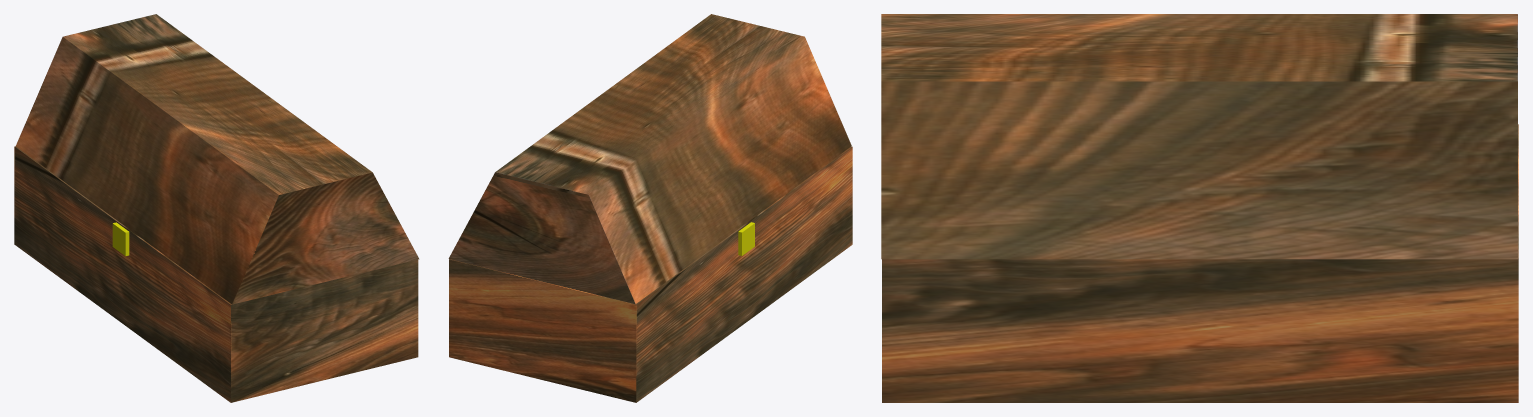
The model's file is chest.glb.
The picture shows the model from 3 angles, left to right: view 1: azimuth 30°, elevation 25°; view 2: azimuth 150°, elevation 25°; view 3: azimuth 270°, elevation 25°; orthographic projection. The views are drawn at different scales.
Parts seen in each view (by area): view 1: Cube, Cube.001; view 2: Cube, Cube.001; view 3: Cube, Cube.001.
Boxes of the visible parts, bbox=[...] form: Cube: bbox=[16, 14, 419, 304]; Cube.001: bbox=[14, 146, 418, 402]; Cube: bbox=[448, 14, 851, 304]; Cube.001: bbox=[449, 146, 852, 402]; Cube: bbox=[881, 14, 1517, 259]; Cube.001: bbox=[882, 124, 1518, 402].
Bounding box in the file's own units: 2.05 × 2 × 4.
Materials: 2 (1 with a texture image).
